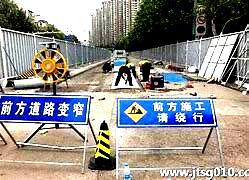sign: (116, 98, 216, 129), (1, 95, 87, 123)
